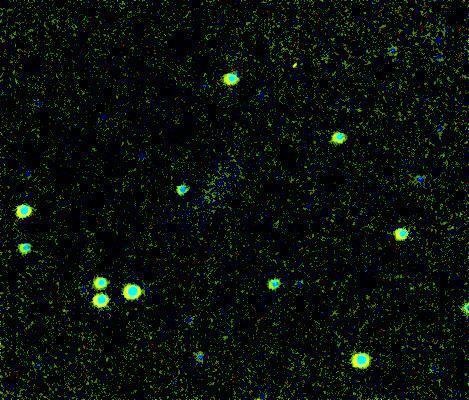star: (278, 50, 308, 80)
